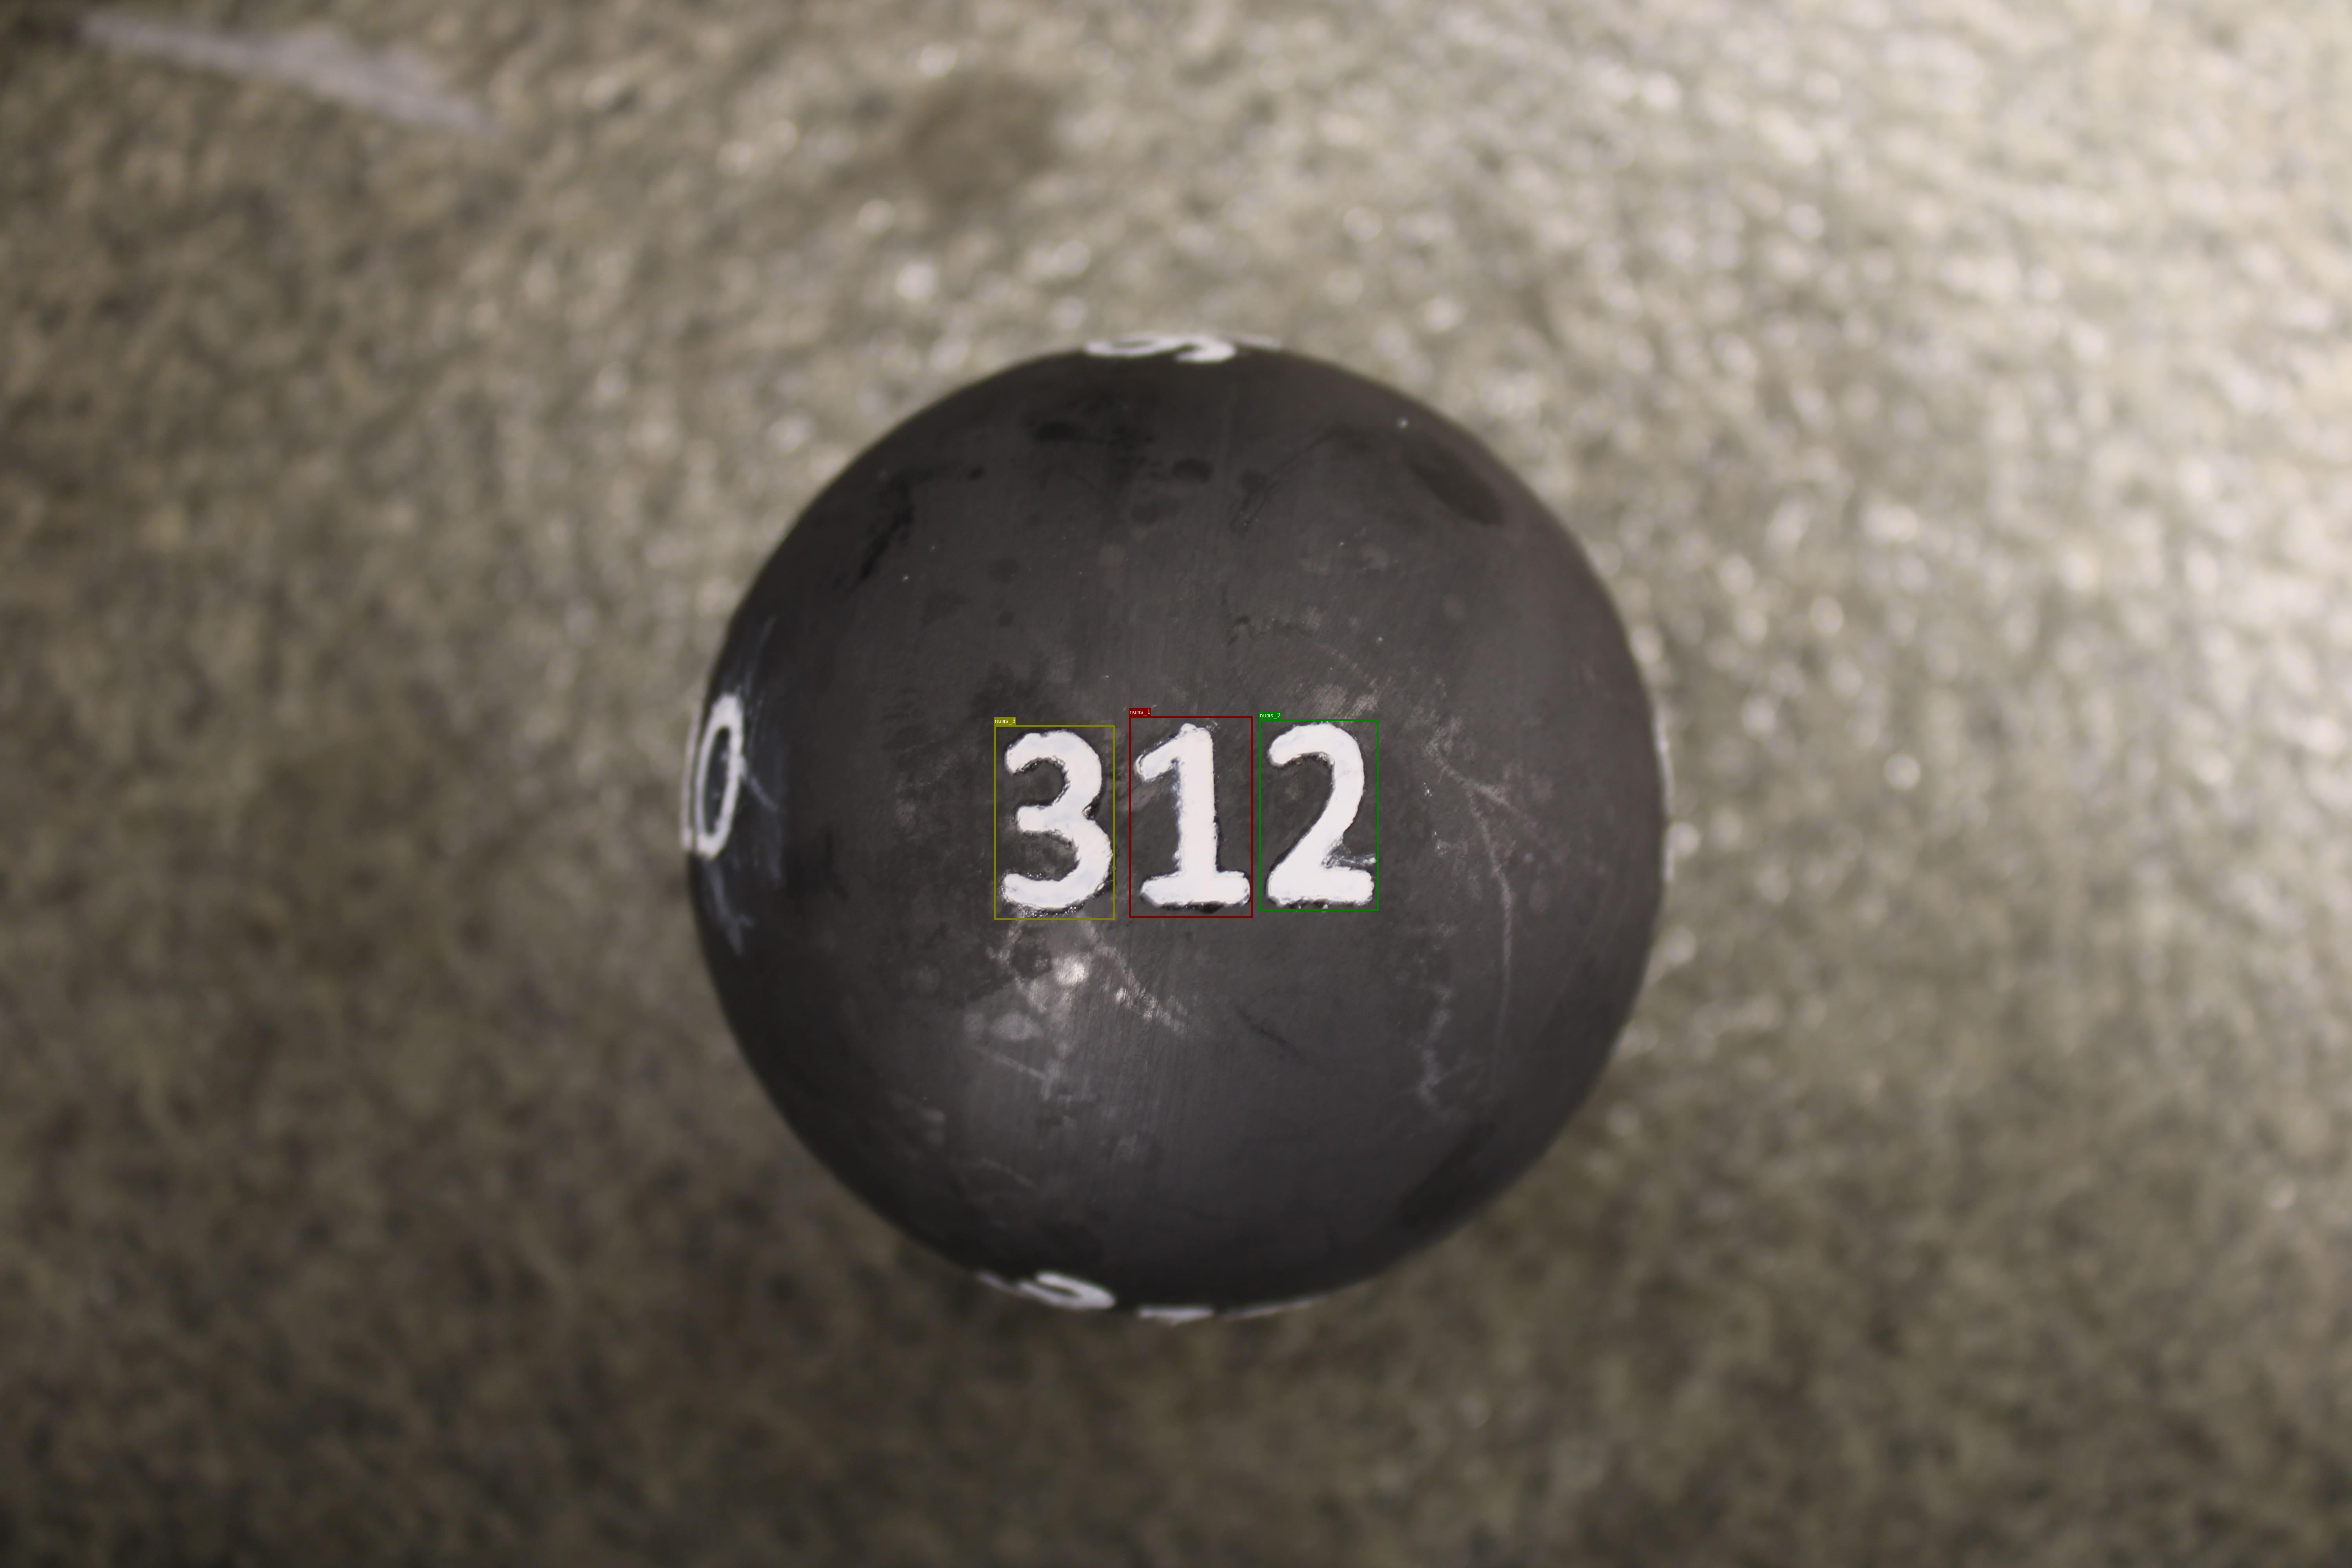nums_1: (1129, 716, 1253, 917)
nums_2: (1258, 719, 1379, 910)
nums_3: (994, 724, 1115, 921)
